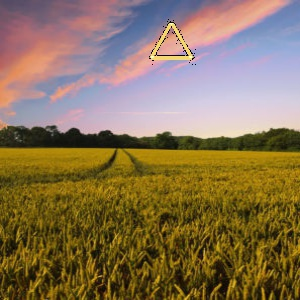triangle: (146, 18, 196, 63)
